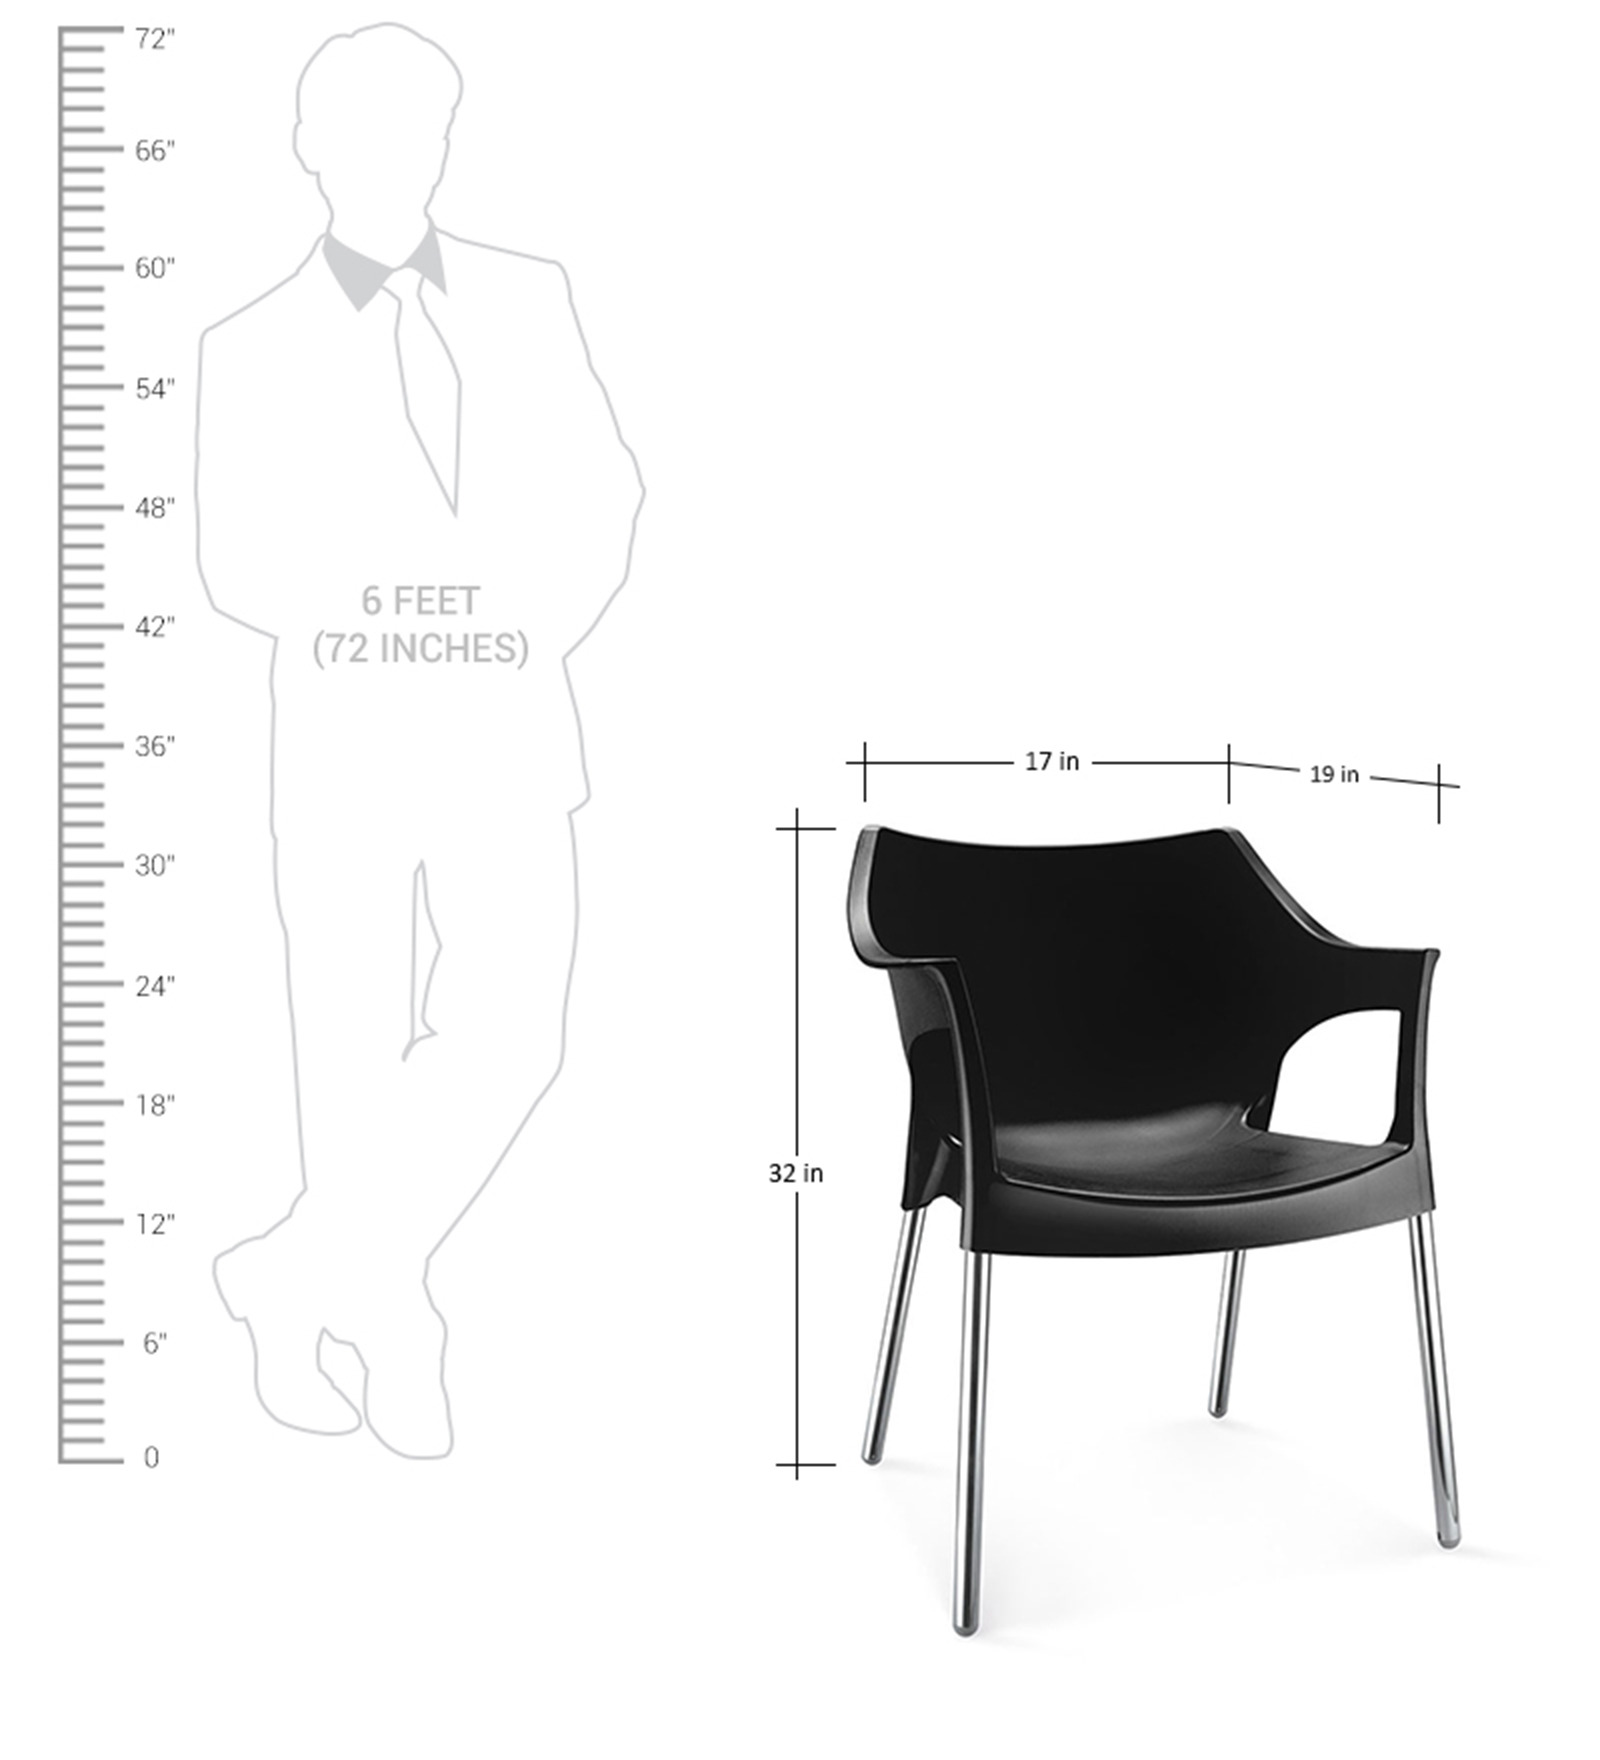Novella Chair in Black Colour by Nilkamal: (841, 819, 1480, 1634)
